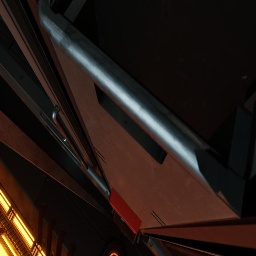FireAlarm ,: (109, 188, 142, 234)
